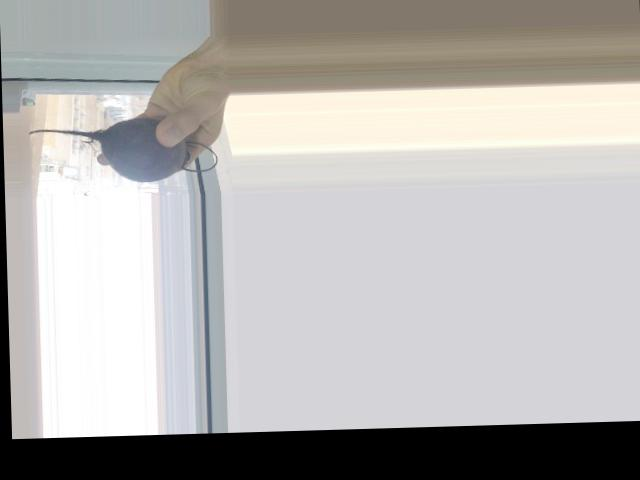beet: (27, 115, 217, 185)
